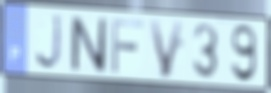3: (191, 21, 220, 82)
9: (229, 22, 259, 85)
F: (110, 17, 146, 76)
J: (34, 13, 64, 72)
N: (68, 14, 109, 75)
V: (147, 18, 186, 81)
